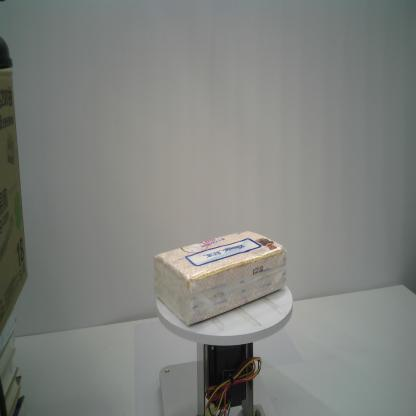Tissue: (152, 229, 288, 329)
